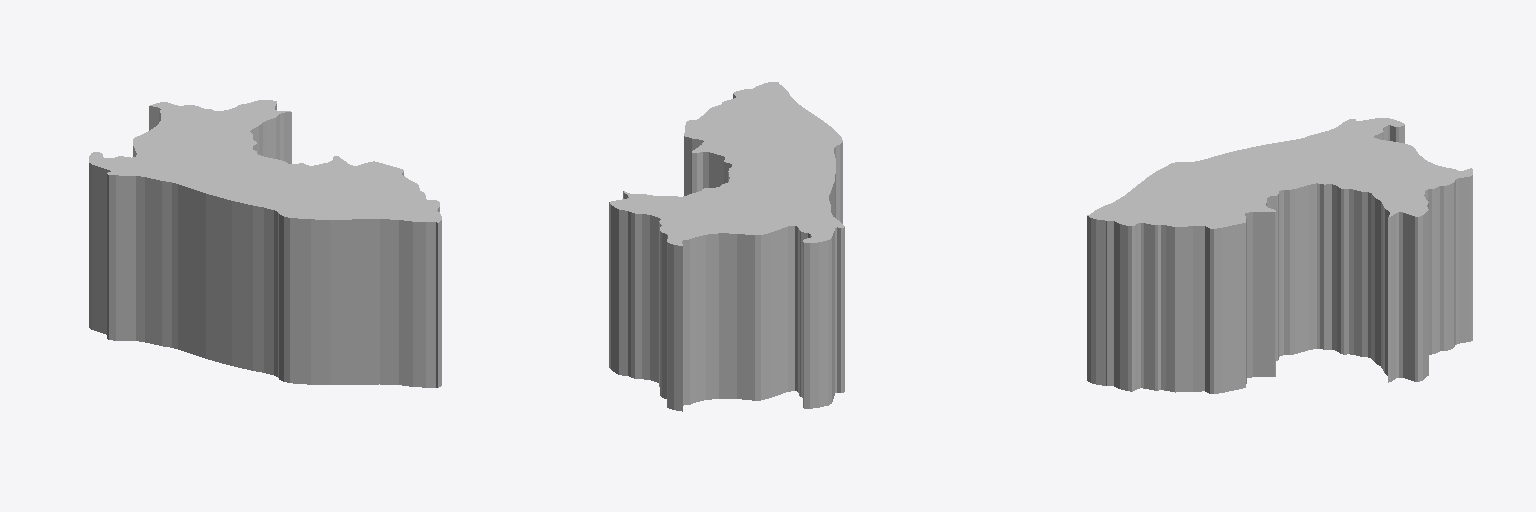
3 views of the same model, side by side, from view 1: azimuth 30°, elevation 25°; view 2: azimuth 150°, elevation 25°; view 3: azimuth 270°, elevation 25° (orthographic).
Parts seen in each view (by area): view 1: PE.002_CUCurve.1773; view 2: PE.002_CUCurve.1773; view 3: PE.002_CUCurve.1773.
Part boxes in pixels (left/top/right/bottom): PE.002_CUCurve.1773: left=89, top=100, right=441, bottom=387; PE.002_CUCurve.1773: left=609, top=82, right=844, bottom=411; PE.002_CUCurve.1773: left=1087, top=118, right=1472, bottom=393.
Bounding box in the file's own units: 0.0722 × 0.05 × 0.106.